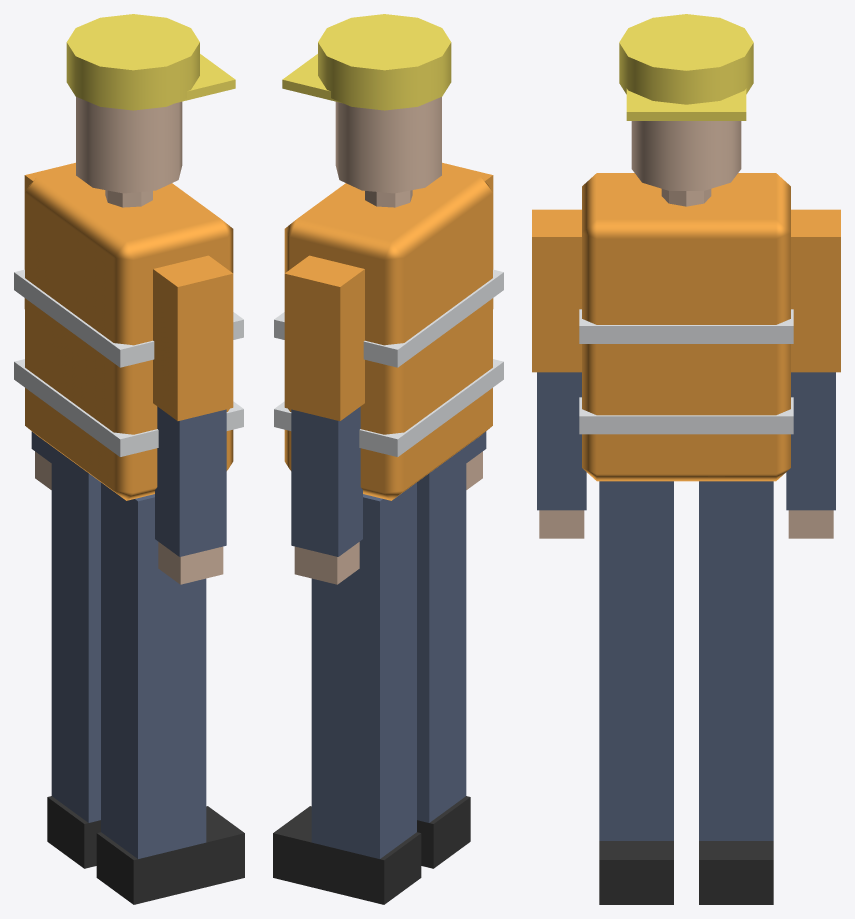
Rendered from worker.glb.
The picture shows the model from 3 angles, left to right: view 1: azimuth 30°, elevation 25°; view 2: azimuth 150°, elevation 25°; view 3: azimuth 270°, elevation 25°; orthographic projection.
Parts seen in each view (by area): view 1: root__hivis, leg_r__navy, leg_l__navy, arm_r__hivis, root__tint_hat, arm_r__navy, root__skin, leg_r__rubber, root__reflect, leg_l__rubber, arm_r__skin; view 2: root__hivis, leg_l__navy, leg_r__navy, arm_l__hivis, root__tint_hat, arm_l__navy, root__skin, leg_l__rubber, root__reflect, leg_r__rubber, arm_l__skin; view 3: root__hivis, leg_l__navy, leg_r__navy, root__tint_hat, root__reflect, arm_l__hivis, arm_r__hivis, root__skin, arm_l__navy, arm_r__navy, leg_l__rubber, leg_r__rubber (+2 smaller).
Boxes of the visible parts, x1,y1,x2,y2 form: root__hivis: (25, 167, 233, 500); leg_r__navy: (101, 482, 206, 858); leg_l__navy: (51, 446, 100, 822); arm_r__hivis: (153, 255, 233, 420); root__tint_hat: (66, 14, 235, 110); arm_r__navy: (155, 406, 226, 556); root__skin: (76, 97, 182, 207); leg_r__rubber: (96, 806, 244, 904); root__reflect: (14, 269, 243, 456); leg_l__rubber: (47, 796, 100, 868); arm_r__skin: (158, 542, 223, 584); root__hivis: (284, 167, 492, 500); leg_l__navy: (311, 482, 416, 858); leg_r__navy: (417, 446, 466, 822); arm_l__hivis: (284, 255, 364, 420); root__tint_hat: (282, 14, 451, 110); arm_l__navy: (291, 406, 362, 556); root__skin: (335, 97, 441, 207); leg_l__rubber: (273, 806, 421, 904); root__reflect: (274, 269, 503, 456); leg_r__rubber: (417, 796, 470, 868); arm_l__skin: (294, 542, 359, 584); root__hivis: (582, 173, 790, 481); leg_l__navy: (699, 481, 773, 840); leg_r__navy: (599, 481, 673, 840); root__tint_hat: (619, 14, 753, 120); root__reflect: (579, 309, 793, 434); arm_l__hivis: (791, 209, 840, 372); arm_r__hivis: (532, 209, 581, 372); root__skin: (631, 121, 741, 206); arm_l__navy: (786, 372, 835, 510); arm_r__navy: (537, 372, 586, 510); leg_l__rubber: (699, 841, 773, 904); leg_r__rubber: (599, 841, 673, 904).
Size of the model in its own units: 0.325 by 1.83 by 0.62.
